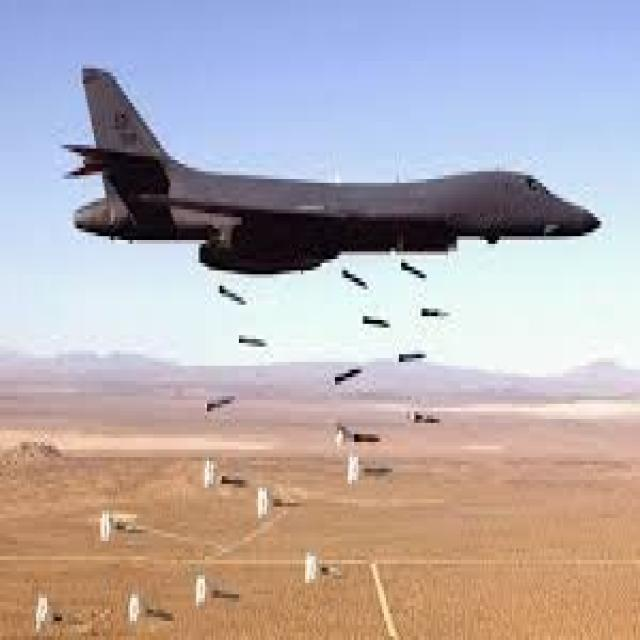B1: (58, 38, 610, 315)
